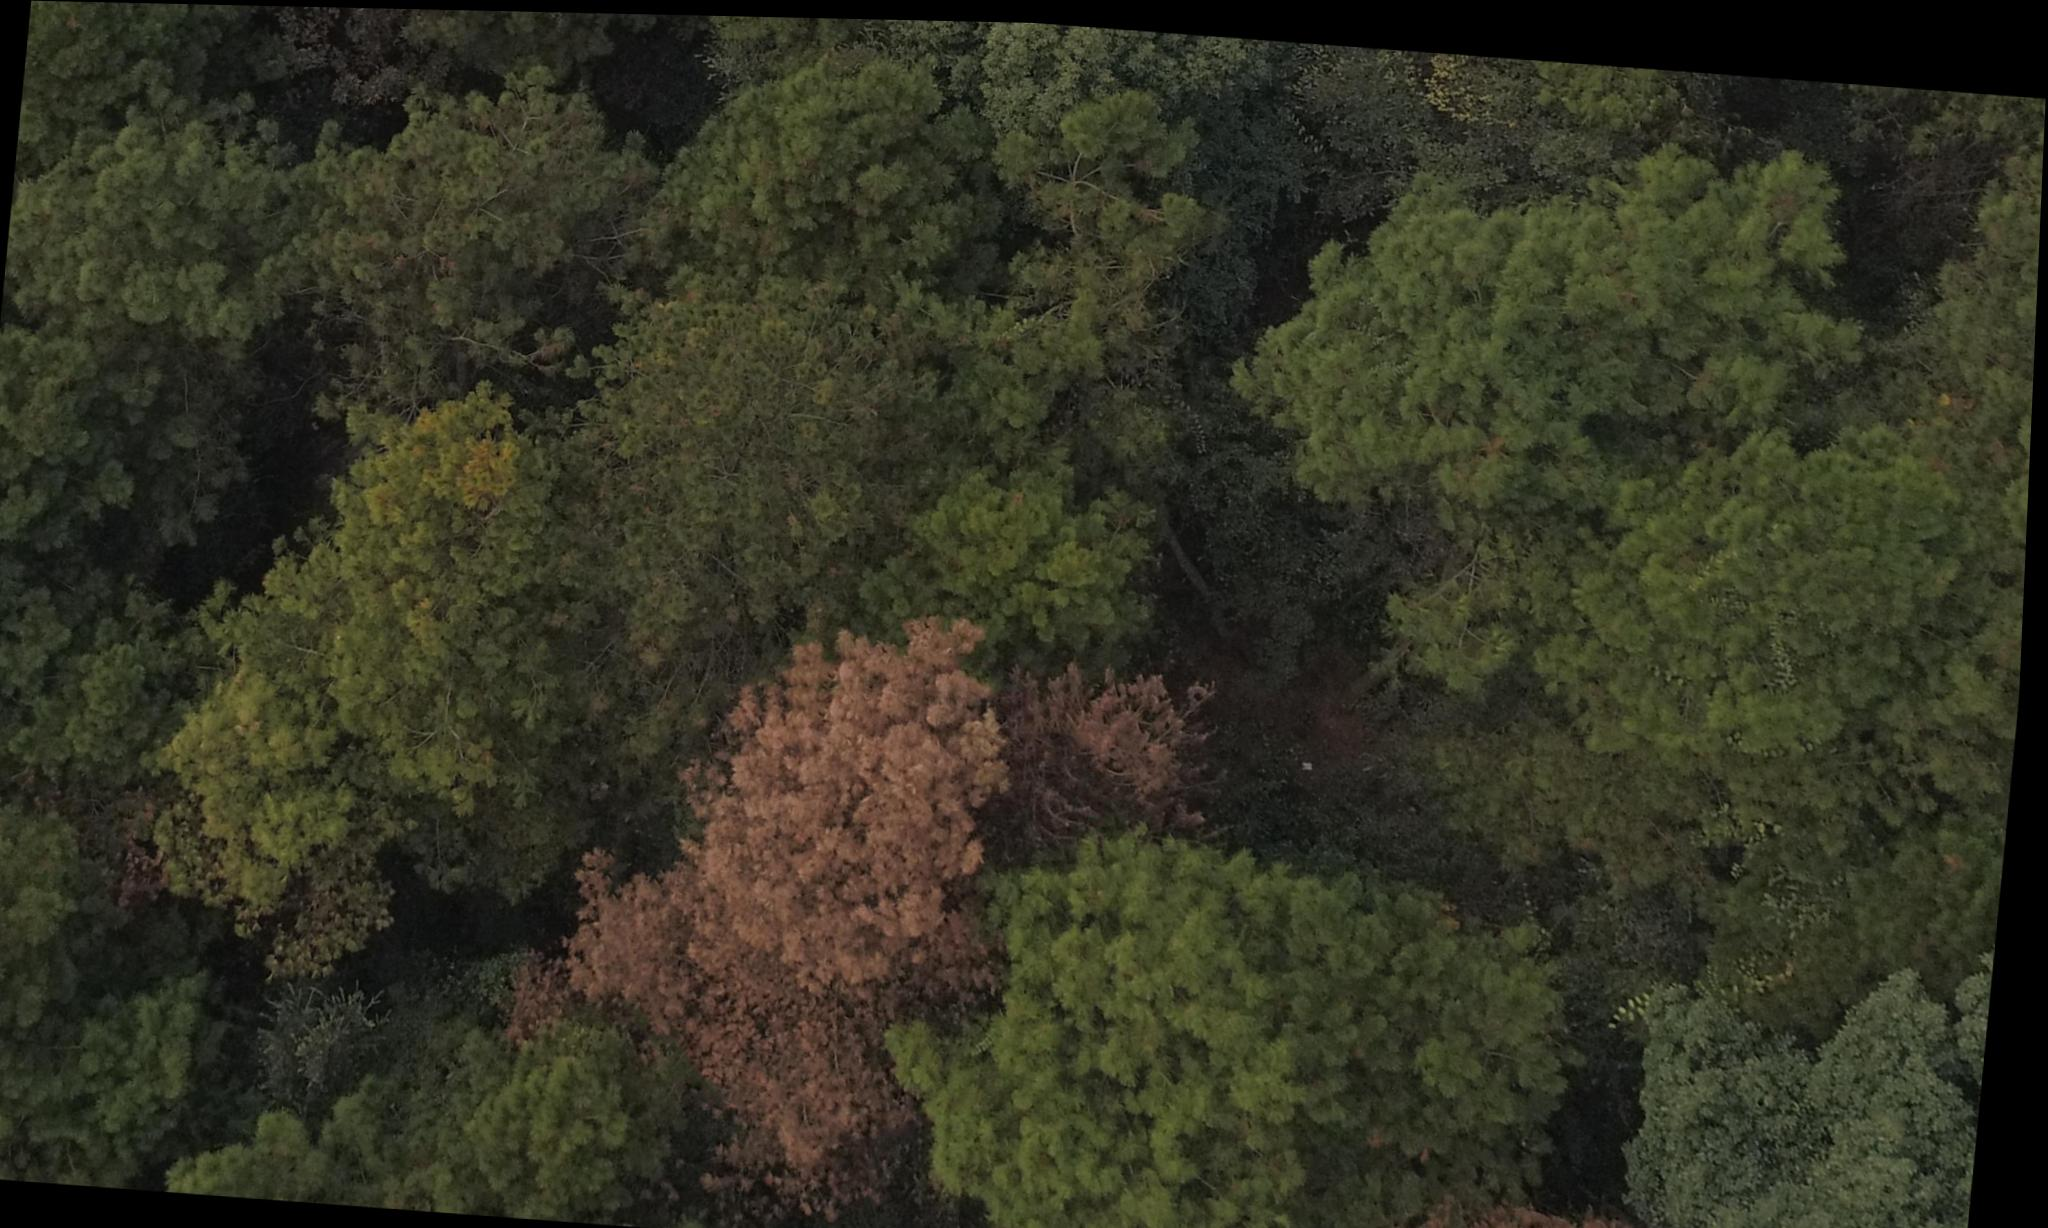heavy: (506, 575, 1213, 1206), (1381, 1162, 1661, 1228)
light: (187, 358, 539, 836)
